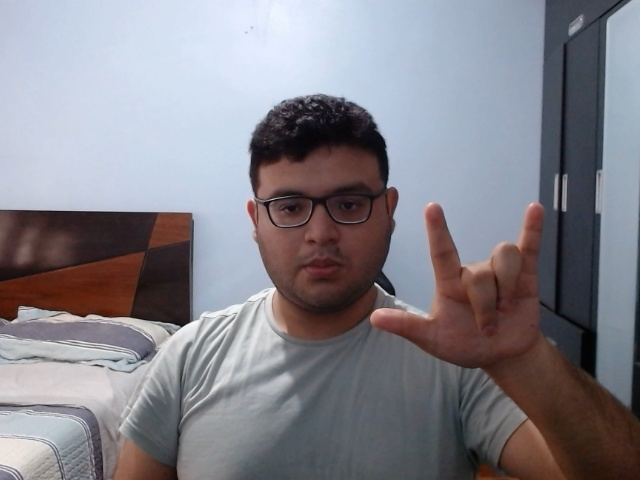I love you: (369, 195, 552, 373)
